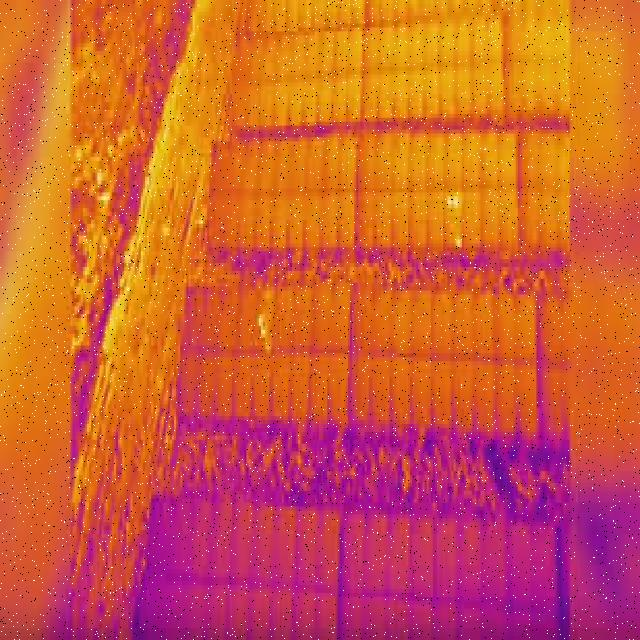Hotspot: (452, 189, 461, 215), (256, 309, 266, 331), (442, 190, 452, 208), (258, 324, 268, 340), (455, 234, 466, 248), (262, 342, 270, 352)
